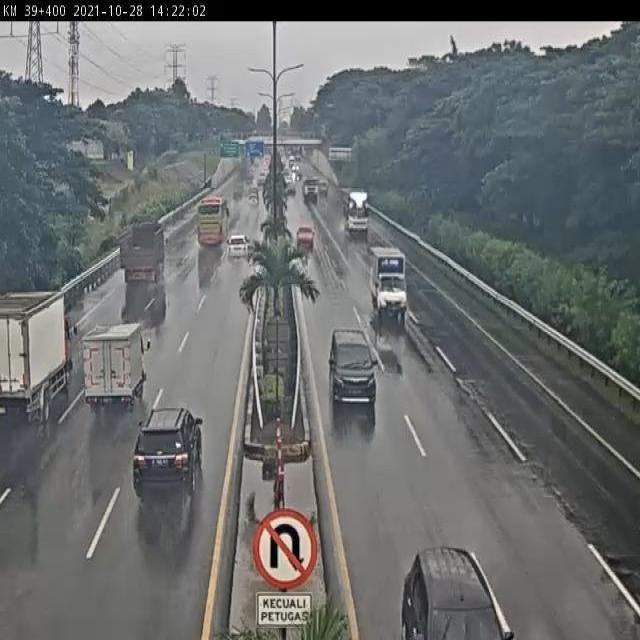big bus: (194, 195, 229, 248)
car: (131, 402, 203, 498), (330, 326, 378, 406), (227, 232, 251, 261), (293, 218, 313, 242)
truck-l-: (341, 189, 372, 239)
truck-m-: (0, 290, 75, 422), (119, 222, 167, 286)
truck-s-: (83, 320, 149, 411), (369, 247, 410, 321)
